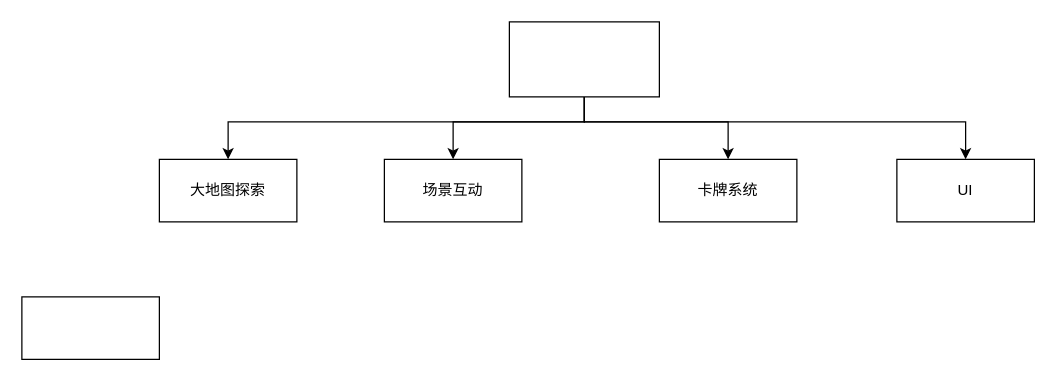
Some shapes in this 1056 by 381 pixel diagram are drawn without their labels. The shapes that lost their labels are listed below. From the top down, each one's centre as x and y in pixels, then its label:
At (583,59): "Project: Oathbreaker".
At (90,327): "动态节点系统".
